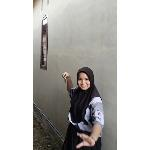Pisau: (62, 72, 68, 85)
